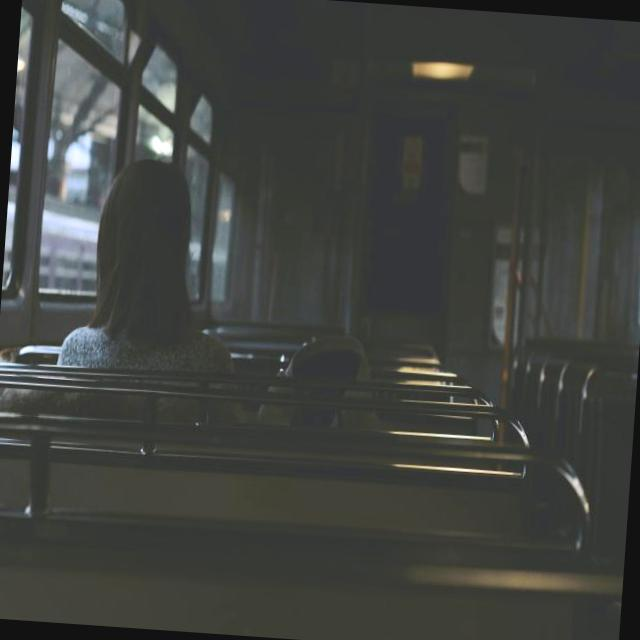person: (44, 134, 242, 393)
